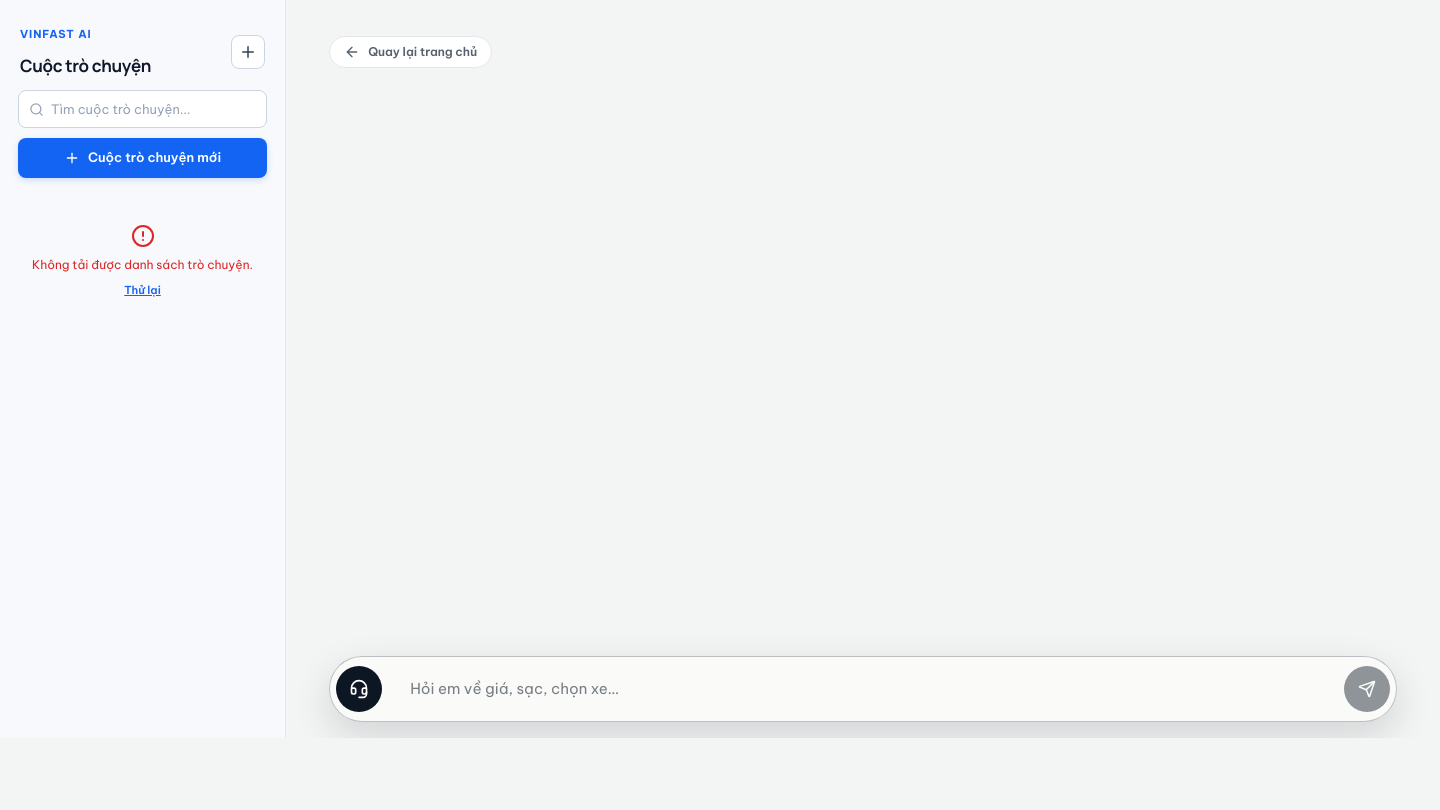
Test case: ConsultationFlow retry identity › retains pending after 5xx and cannot overwrite original payload
The width and height of the screenshot is (1440, 810).
In the field named "Tin nhắn gửi trợ lý": [873, 689] box [410,663,1336,715], type "Tin gốc"
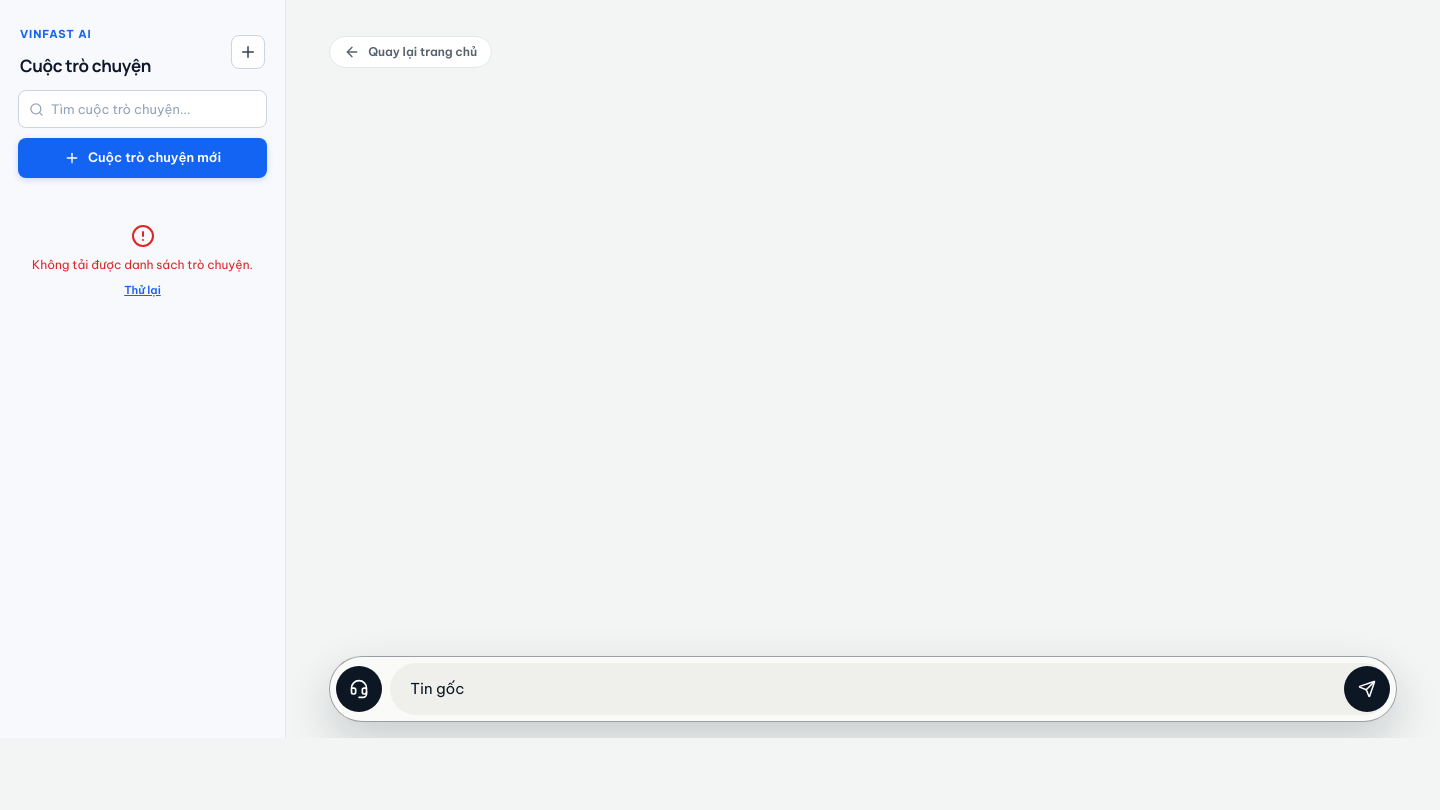
Click the button named "Gửi": [1367, 689] box [1344,666,1390,712]
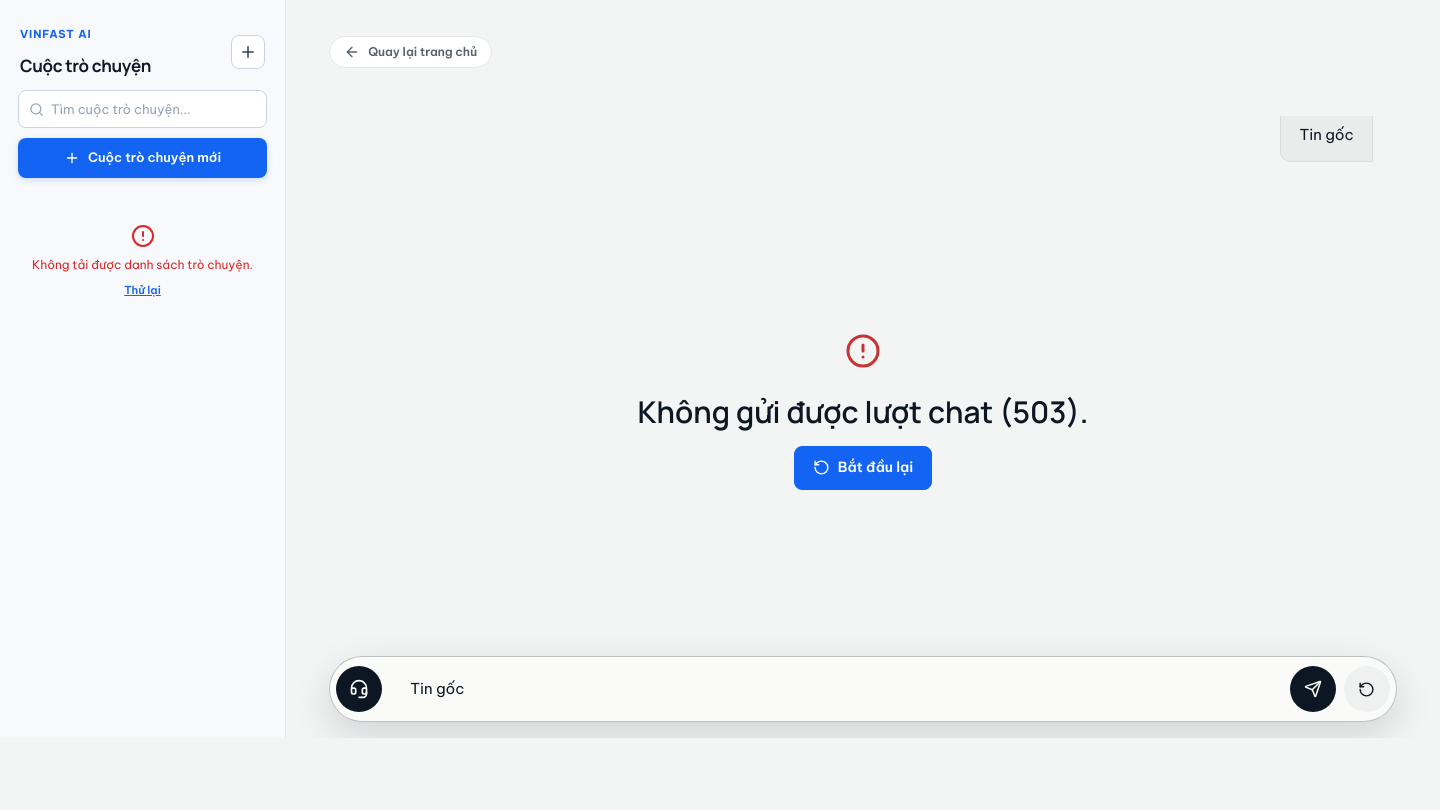
Expected: the heading "Không gửi được lượt chat (503)." is shown, [638,389,1088,434]
Replace the text in the field named "Tin nhắn gửi trợ lý" with "Tin sửa": [846, 689] box [410,663,1282,715]
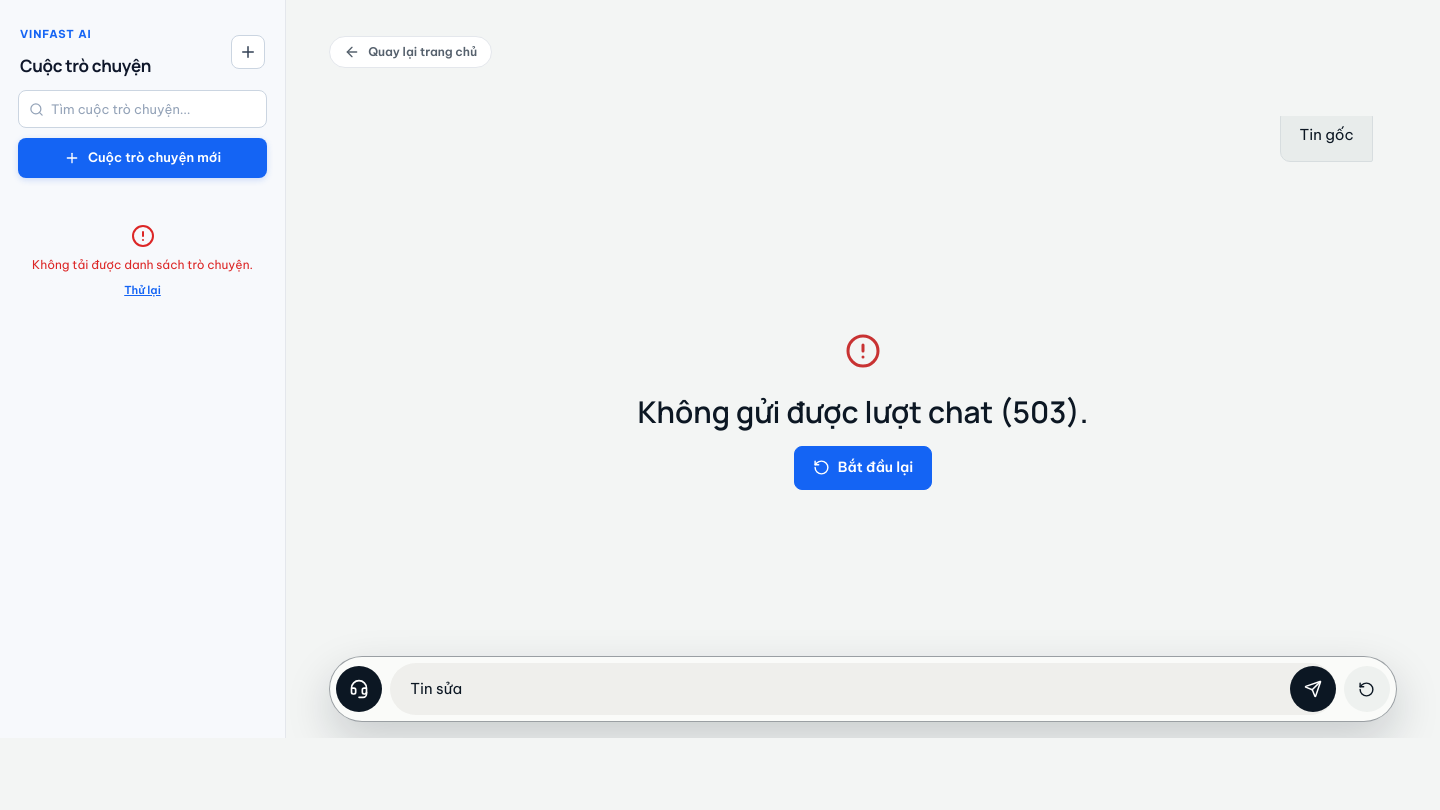
Click the button named "Gửi": [1313, 689] box [1290,666,1336,712]
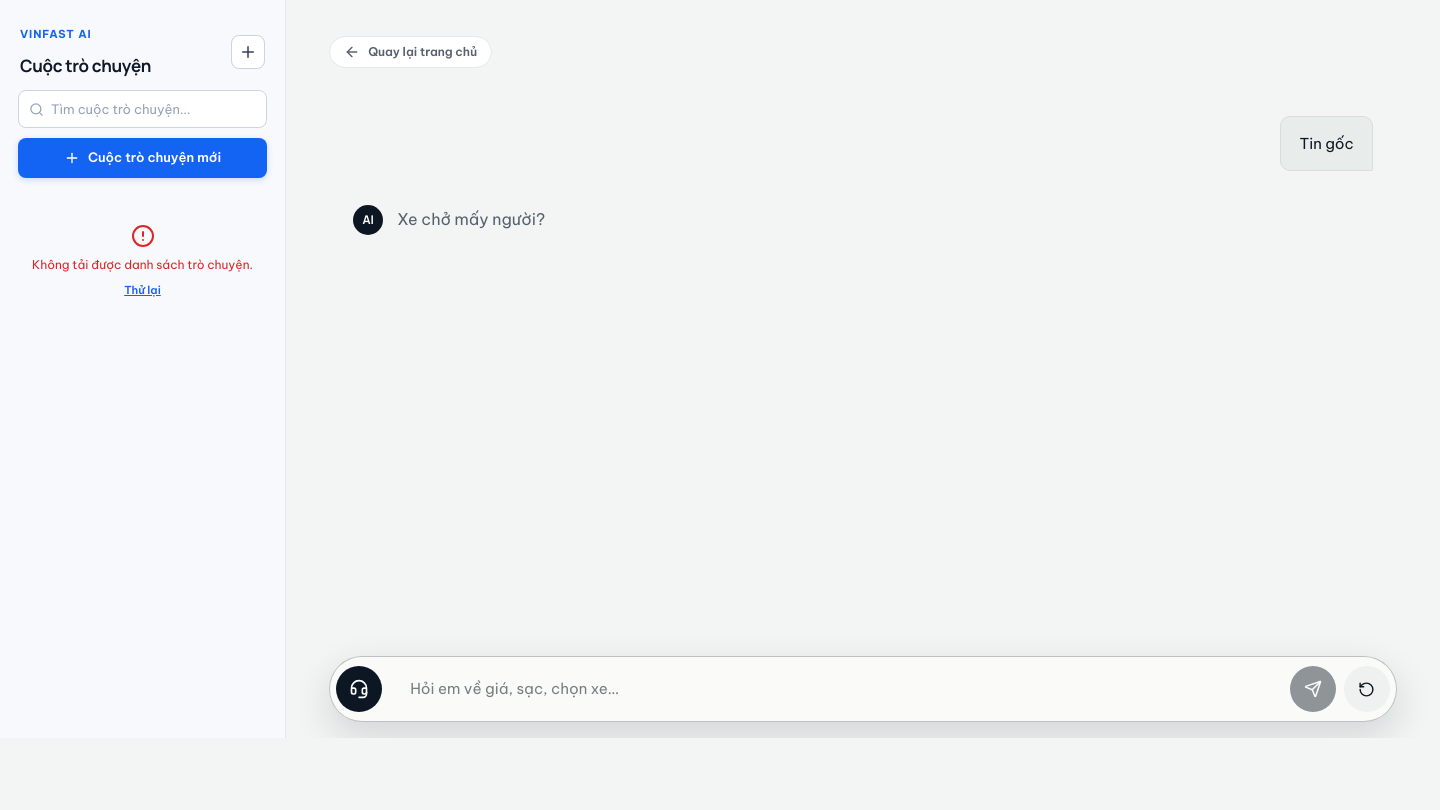
Expected: the text "Tin sửa" is not shown
Expected: the text "Xe chở mấy người?" is shown, [397,209,545,229]
